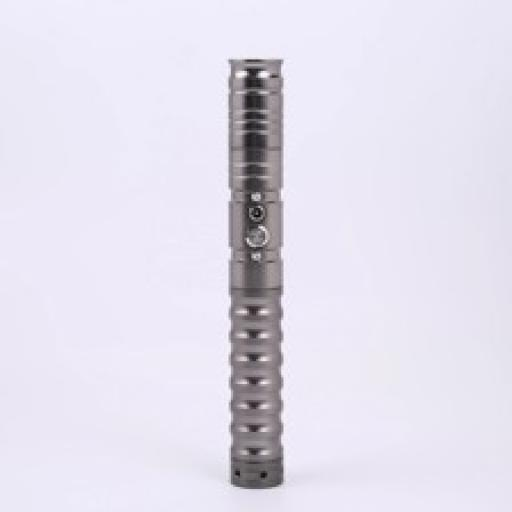lightsaber: (199, 38, 292, 490)
